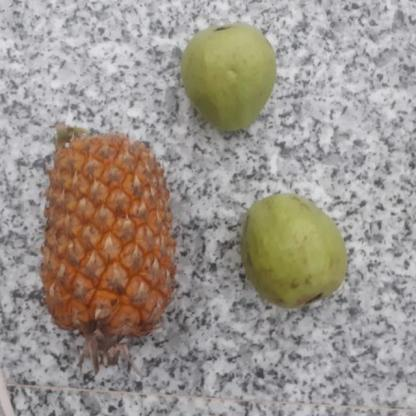guava: (236, 195, 347, 305), (178, 25, 278, 128)
pineapple: (41, 125, 172, 343)
